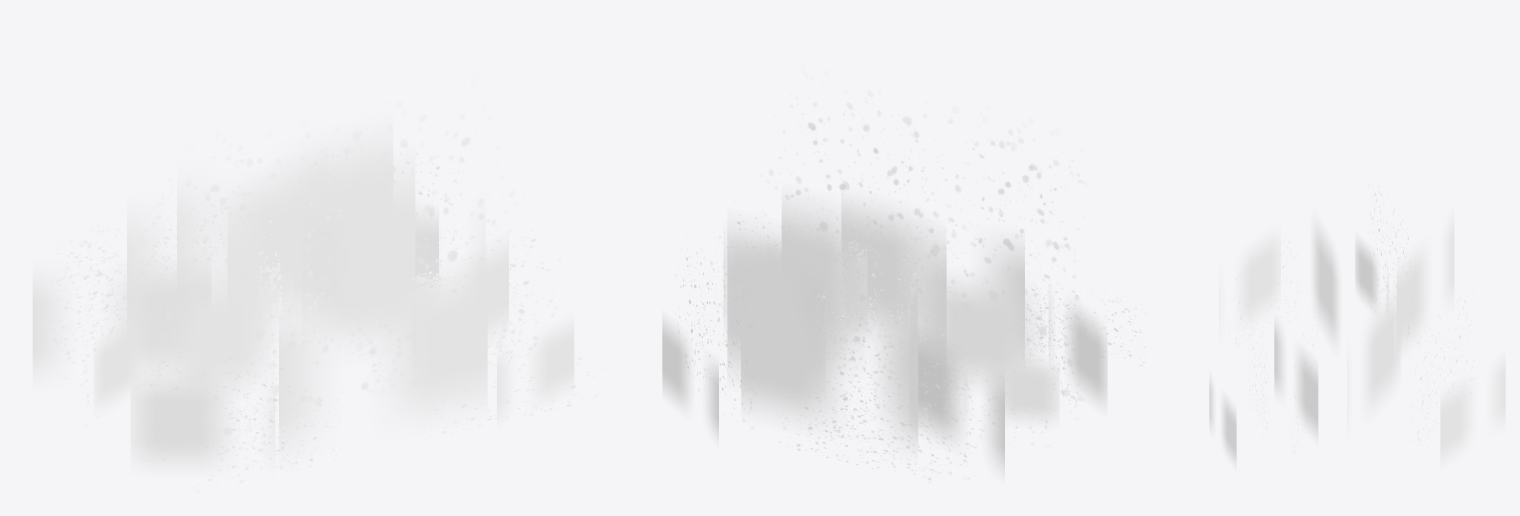
Rendered from effectOpen.glb.
The picture shows the model from 3 angles, left to right: view 1: azimuth 30°, elevation 25°; view 2: azimuth 150°, elevation 25°; view 3: azimuth 270°, elevation 25°; orthographic projection. The views are drawn at different scales.
Parts seen in each view (by area): view 1: Cube.037, Cube.038; view 2: Cube.037, Cube.038; view 3: Cube.037, Cube.038.
Part boxes in pixels (left/top/right/bottom): Cube.037: left=32, top=121, right=574, bottom=472; Cube.038: left=42, top=102, right=605, bottom=492; Cube.037: left=662, top=191, right=1107, bottom=478; Cube.038: left=676, top=91, right=1146, bottom=482; Cube.037: left=1209, top=211, right=1505, bottom=467; Cube.038: left=1227, top=185, right=1474, bottom=455.
Size of the model in its own units: 0.6484 by 0.4722 by 0.4417.
2 materials, 2 textured.
